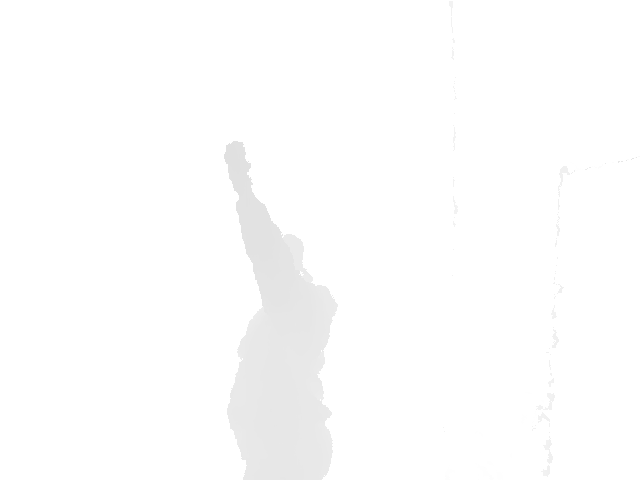hand: (224, 140, 253, 174)
head: (266, 233, 306, 283)
person: (224, 140, 339, 480)
